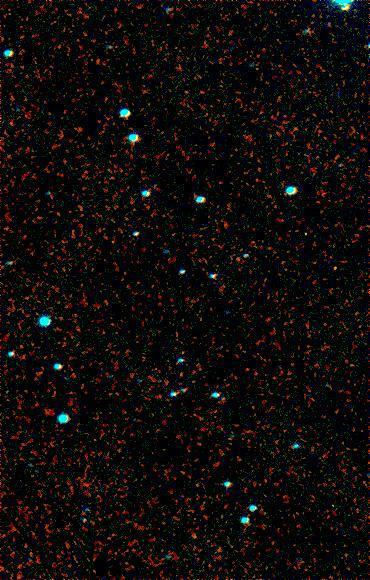star: (321, 253, 351, 283)
